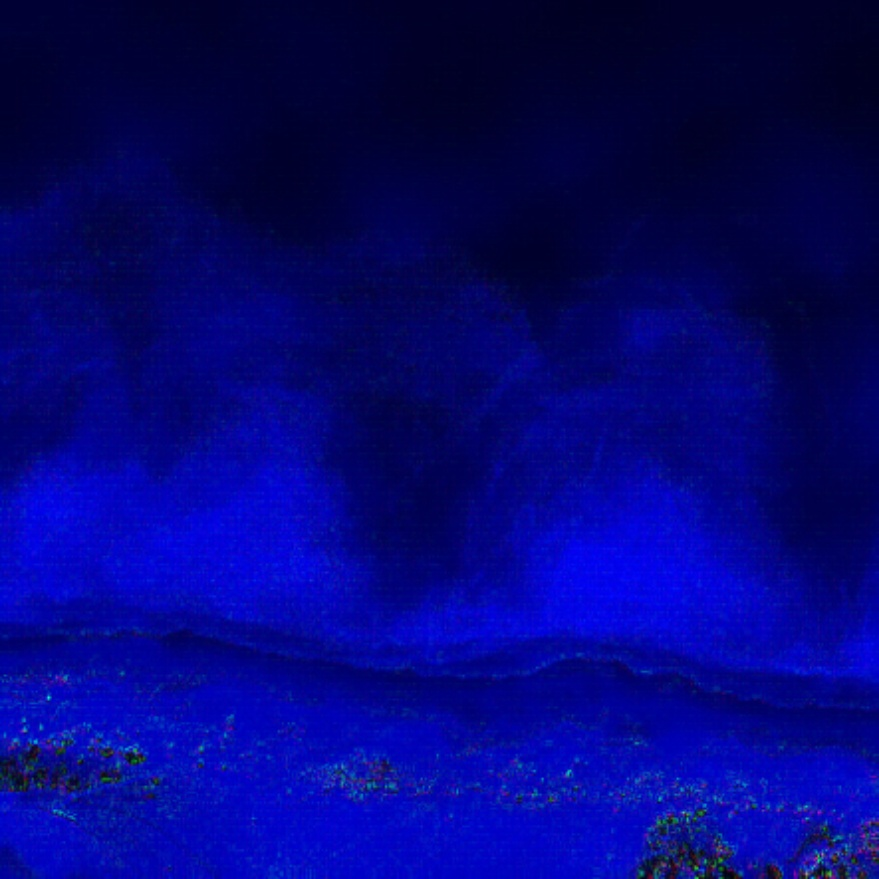rip_current: (279, 329, 604, 631)
